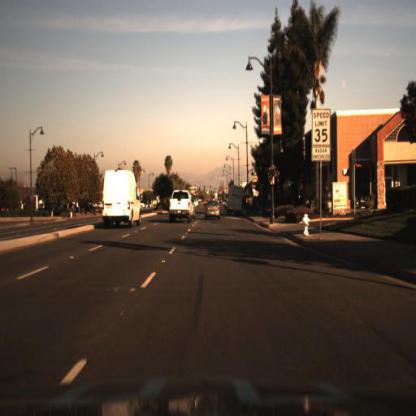car: (95, 159, 145, 238), (165, 191, 196, 222), (226, 182, 248, 220), (204, 201, 225, 222)
truck: (102, 169, 146, 239), (227, 184, 245, 218)
